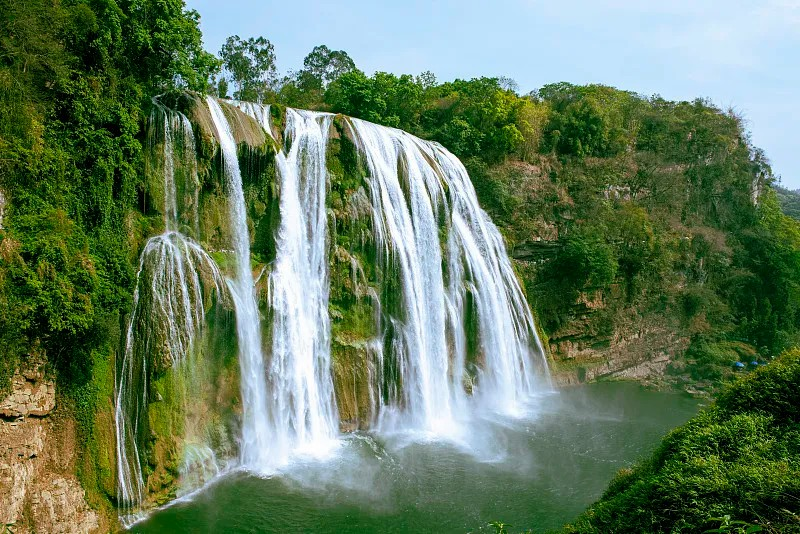Huangguoshu: (123, 90, 559, 518)
